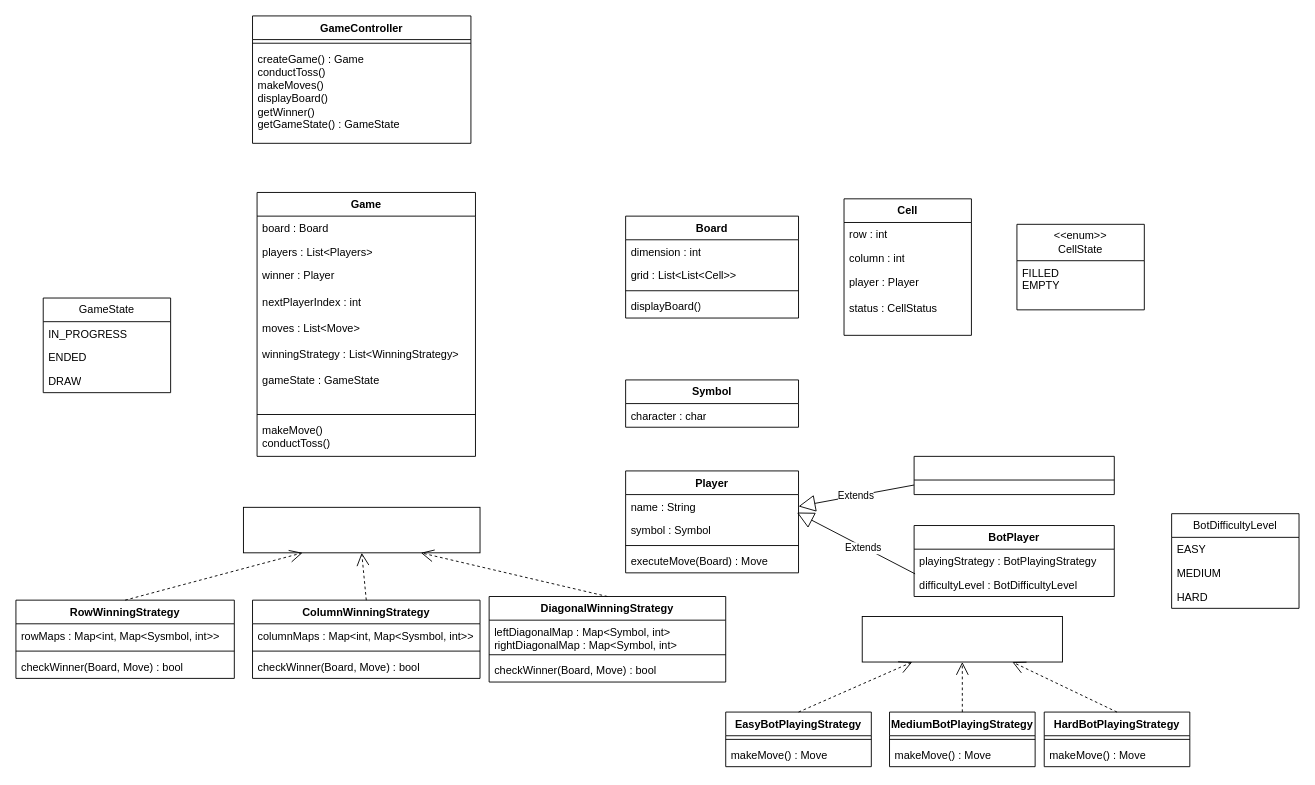
This 1315x785 diagram has some shape labels left out. Each missing label, with the centre of its shape:
<<interface>> BotPlayingStrategy makeMove() : Move: point 961,639
HumanPlayer: point 1013,475
«interface» GameWinningStrategy checkWinner(Board, Move) : bool: point 361,529
